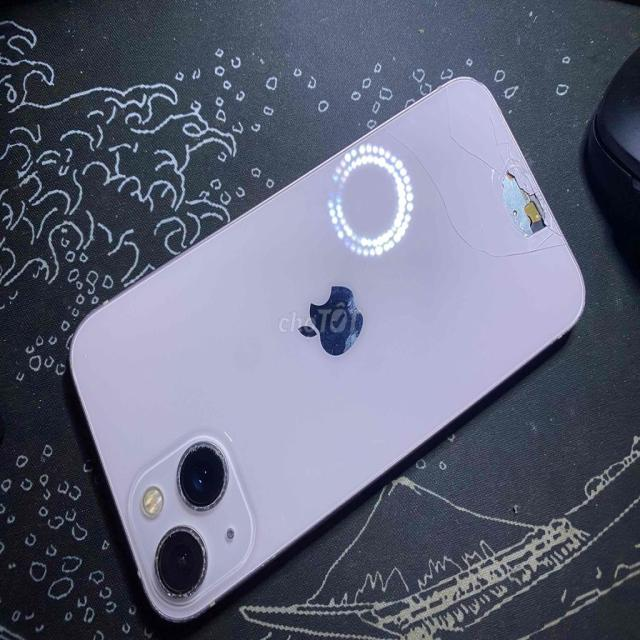gen_12_13: (69, 74, 591, 627)
physical_damage: (376, 85, 586, 343)
